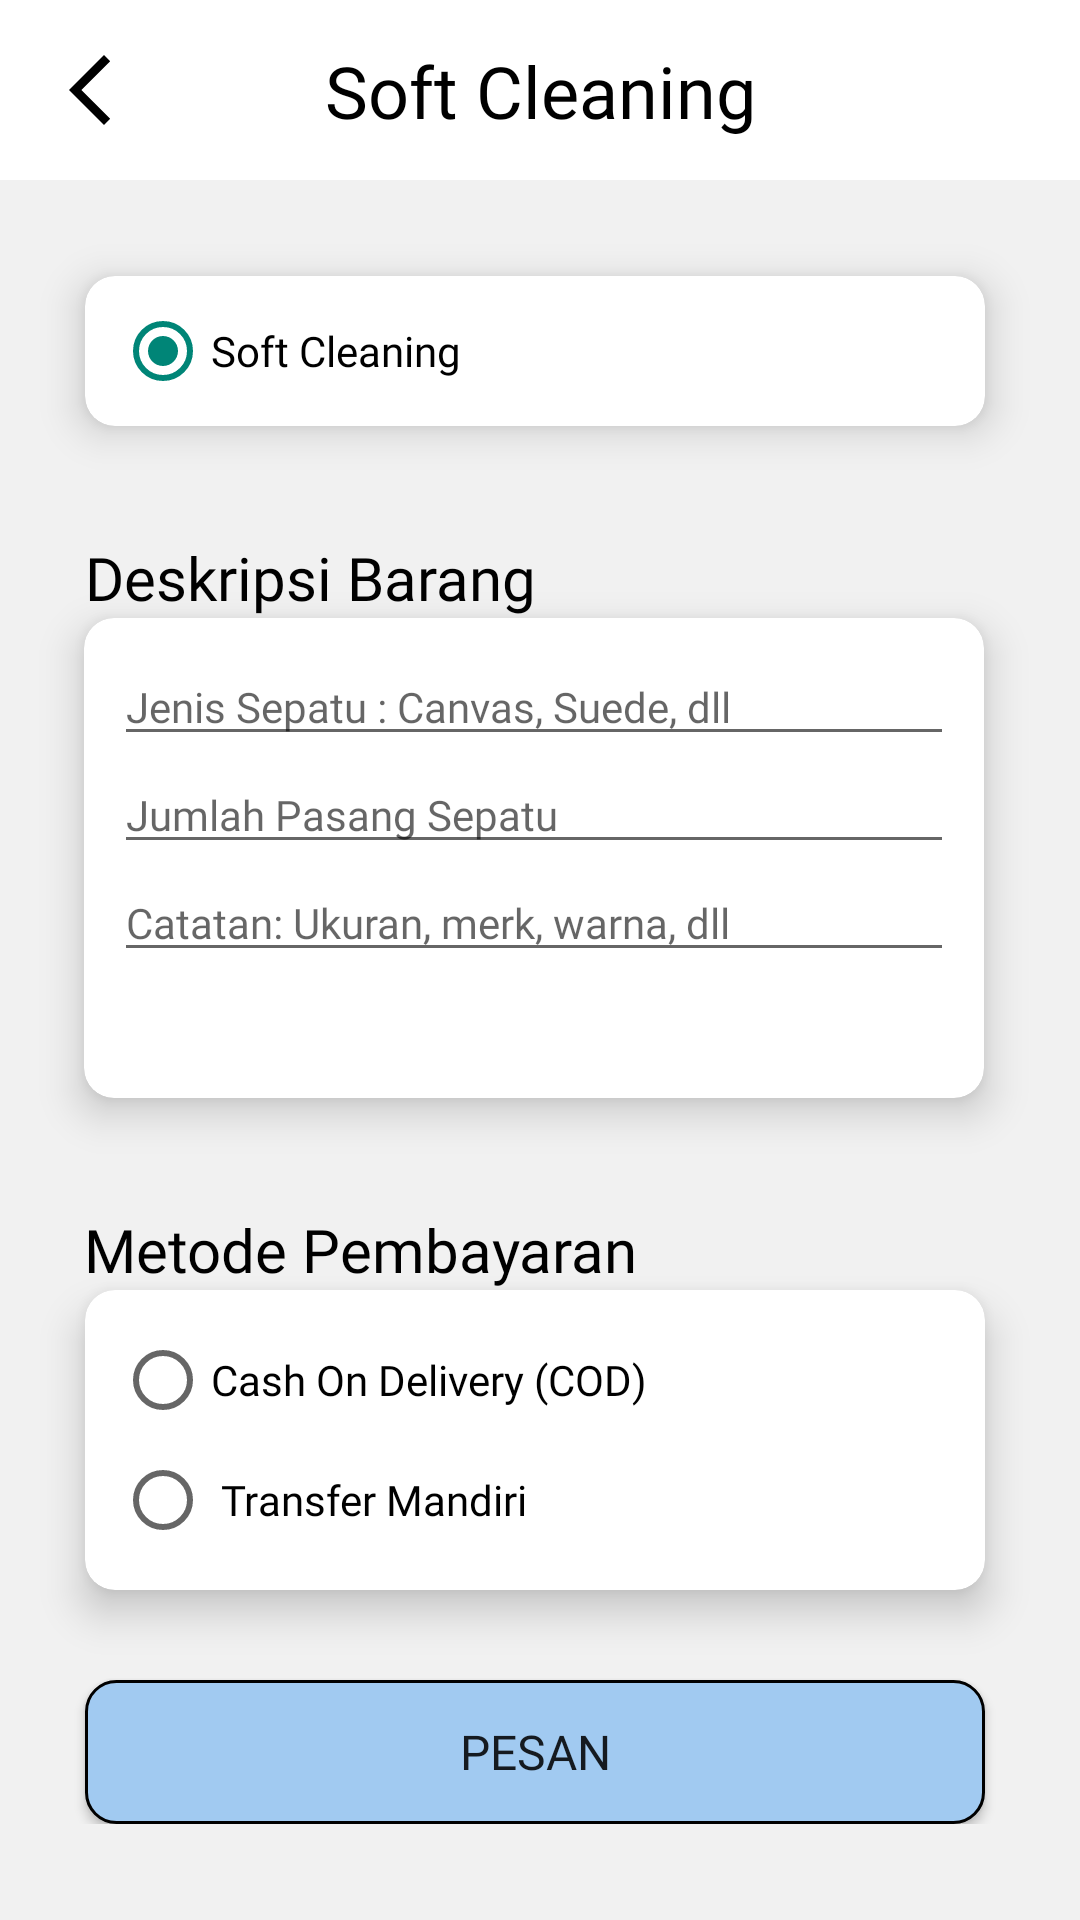

Icon click points for this 1080 x 1920 phone screenshot, format (x,y):
back: (89,90)
